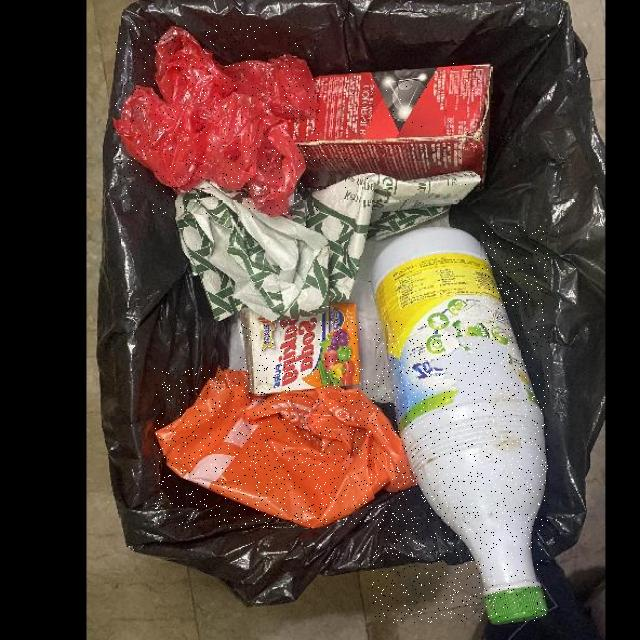paper: (175, 171, 482, 320), (287, 63, 492, 188), (241, 302, 361, 394)
plastic: (372, 225, 549, 623), (155, 367, 417, 528), (113, 24, 319, 217)
